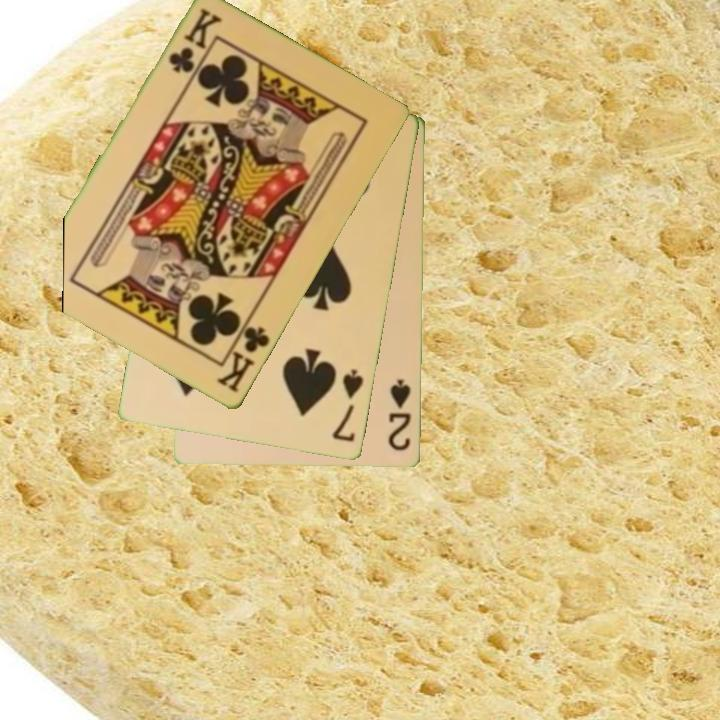2s: (385, 376, 414, 454)
7s: (329, 366, 367, 445)
Kc: (213, 314, 273, 396), (165, 5, 223, 77)
